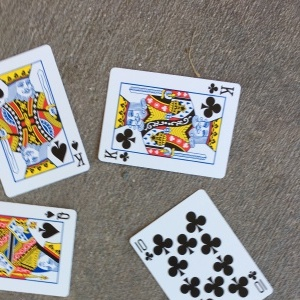card: (97, 66, 242, 182)
